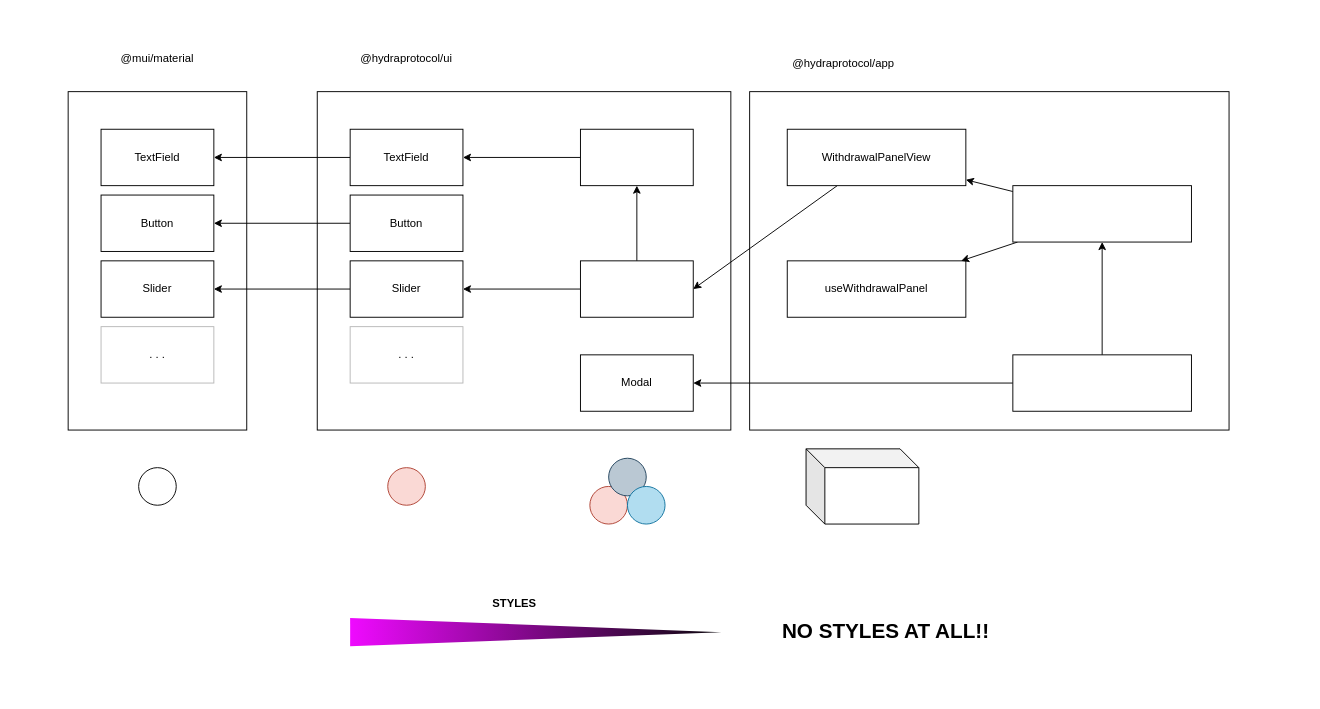
This 1320x709 diagram has some shape labels left out. Here are the shapes that lost their labels. From the top down, the box of each, then its label:
(580, 128, 693, 186): NumericField
(1012, 185, 1191, 242): WithdrawalPanel
(580, 260, 693, 317): SliderAmount
(1012, 354, 1191, 411): WithdrawPage
